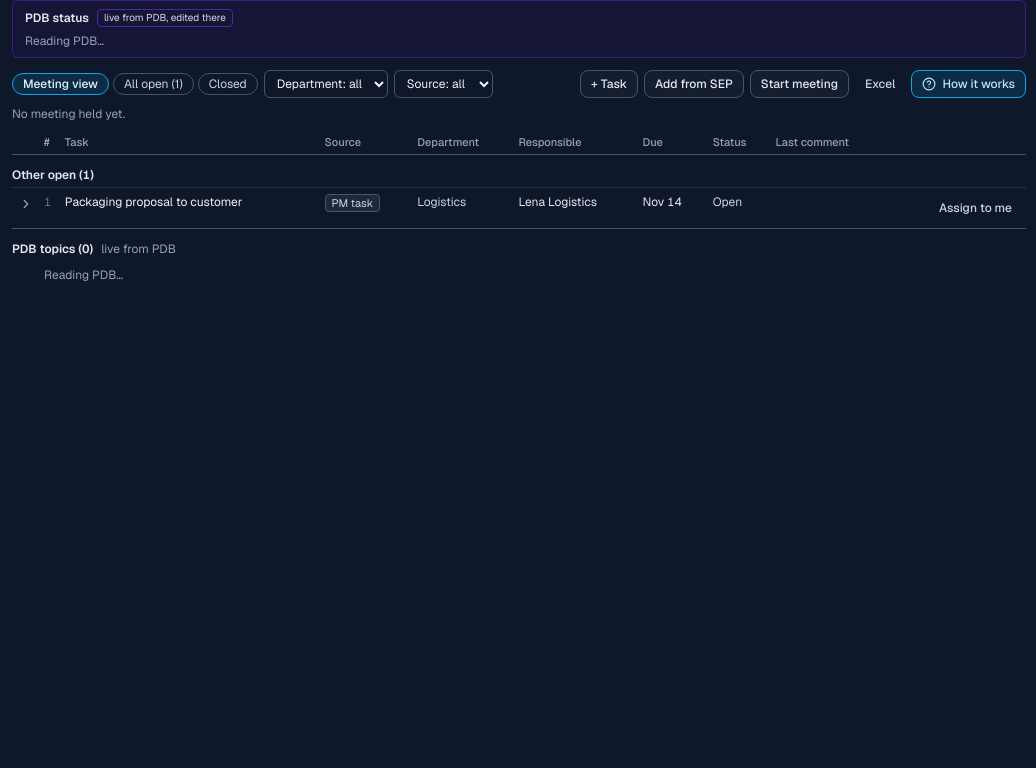
LOP equipment › links an article and shows it by its customer number
Later steps or results of the test are not shown.
Step 1. Click the button "+ Task" → (609,84), box [580,70,638,98]
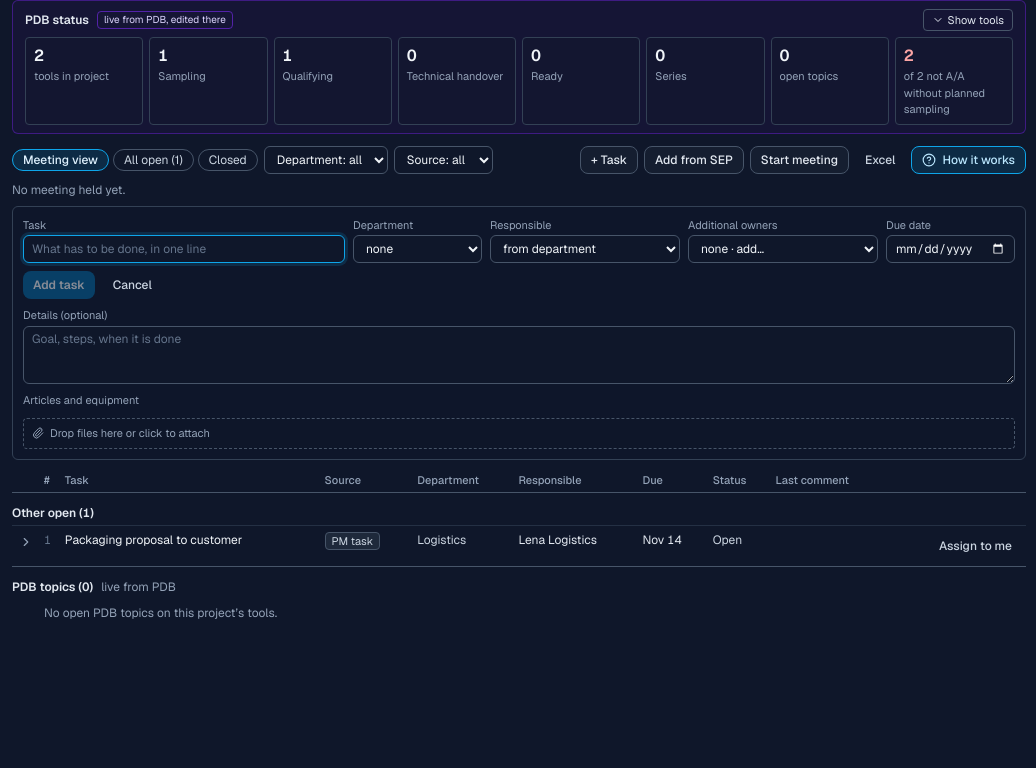
Step 2. Type "Sink mark" into the field labelled "Task" → (184,249), box [23,235,345,263]
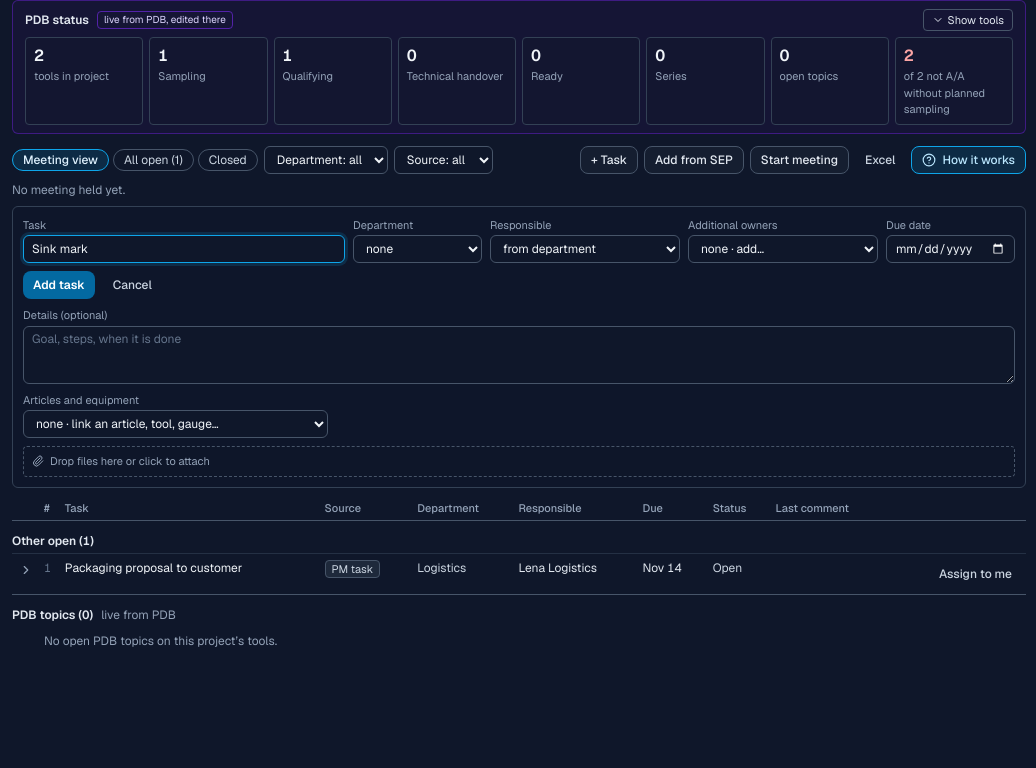
Step 3. Select "51.12.7.123.456 · 21-3345-0001 · UBV Mitte part" in the dropdown named "Link equipment" → (176,424), box [23,410,328,438]
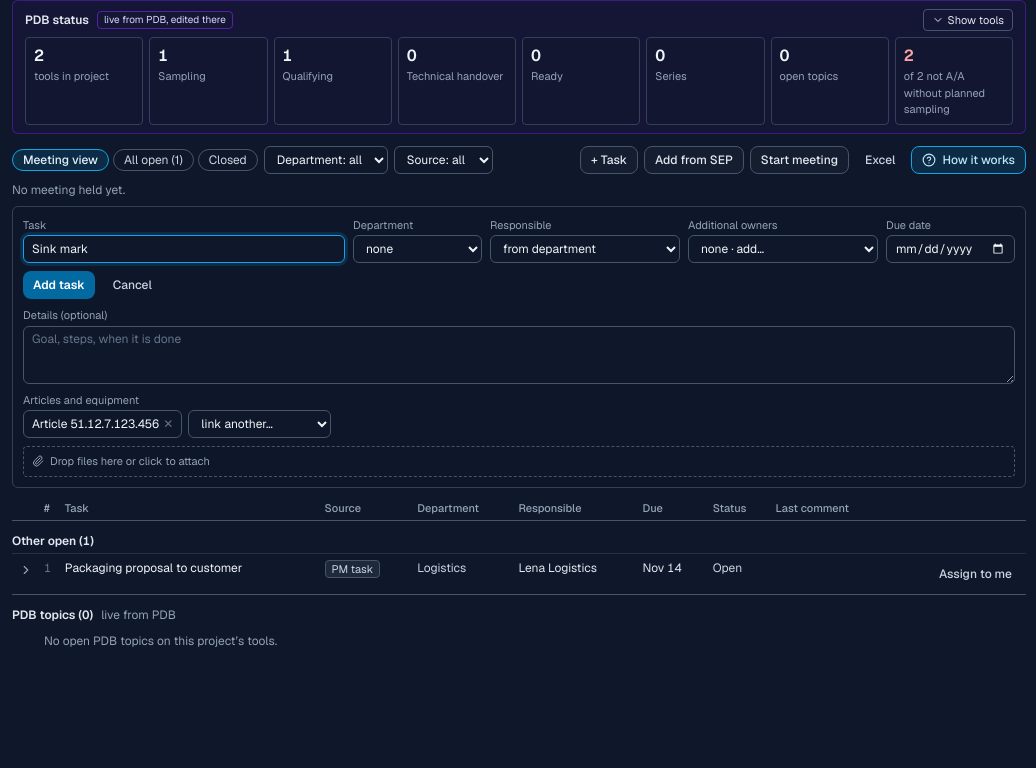
Check: the button named "Remove Article 51.12.7.123.456" is shown, box [163,416,173,432]
